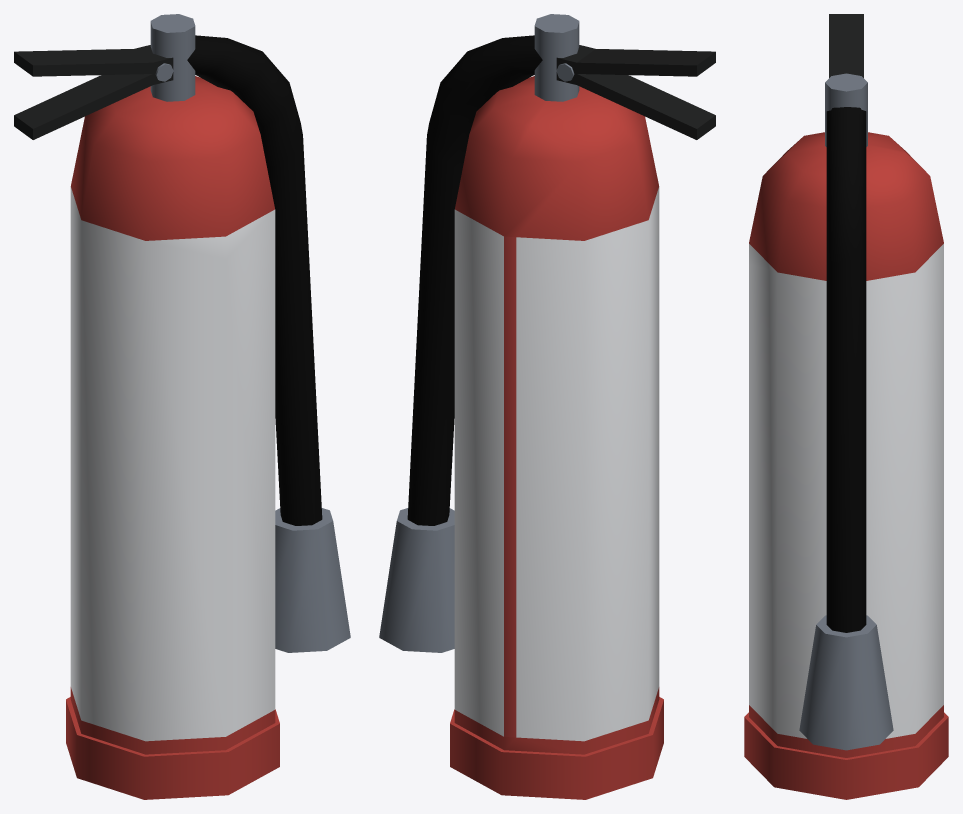
Rendered from lab-extinguisher.glb.
3 renders of one model, left to right at view 1: azimuth 30°, elevation 25°; view 2: azimuth 150°, elevation 25°; view 3: azimuth 270°, elevation 25°, orthographic. The views are drawn at different scales.
Parts seen in each view (by area): view 1: ppe_fire_extinguisher, ppe_fire_extinguisher_clamp; view 2: ppe_fire_extinguisher, ppe_fire_extinguisher_clamp; view 3: ppe_fire_extinguisher, ppe_fire_extinguisher_clamp.
Part boxes in pixels (left/top/right/bottom): ppe_fire_extinguisher: left=66, top=14, right=350, bottom=799; ppe_fire_extinguisher_clamp: left=14, top=45, right=173, bottom=139; ppe_fire_extinguisher: left=379, top=14, right=663, bottom=799; ppe_fire_extinguisher_clamp: left=556, top=45, right=715, bottom=139; ppe_fire_extinguisher: left=744, top=73, right=948, bottom=799; ppe_fire_extinguisher_clamp: left=829, top=14, right=863, bottom=77.
Size of the model in its own units: 27.6 by 59.98 by 16.45.
1 material, 1 textured.
